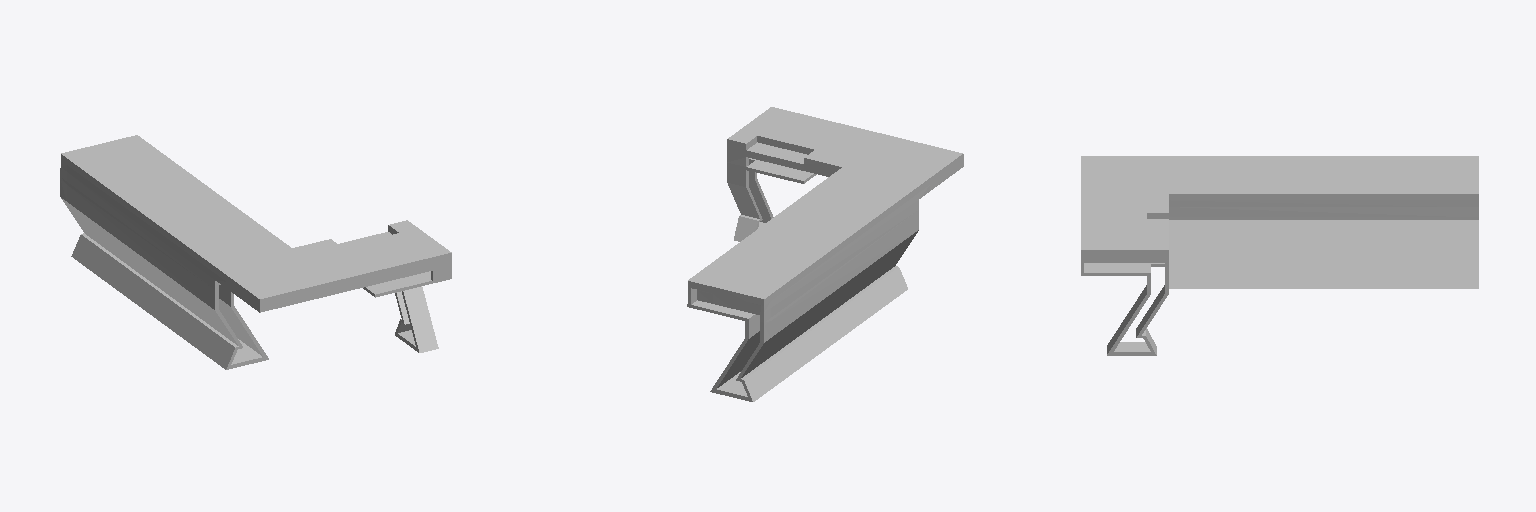
The model's file is DeskOBJ.obj.
3 views of the same model, side by side, from view 1: azimuth 30°, elevation 25°; view 2: azimuth 150°, elevation 25°; view 3: azimuth 270°, elevation 25° (orthographic).
Visible parts, largest first — view 1: futureDeskBuv:Mesh; view 2: futureDeskBuv:Mesh; view 3: futureDeskBuv:Mesh.
Boxes of the visible parts, x1,y1,x2,y2 form: futureDeskBuv:Mesh: [60, 135, 451, 369]; futureDeskBuv:Mesh: [687, 107, 963, 401]; futureDeskBuv:Mesh: [1081, 156, 1478, 355].
Size of the model in its own units: 18.32 by 9.64 by 32.9.